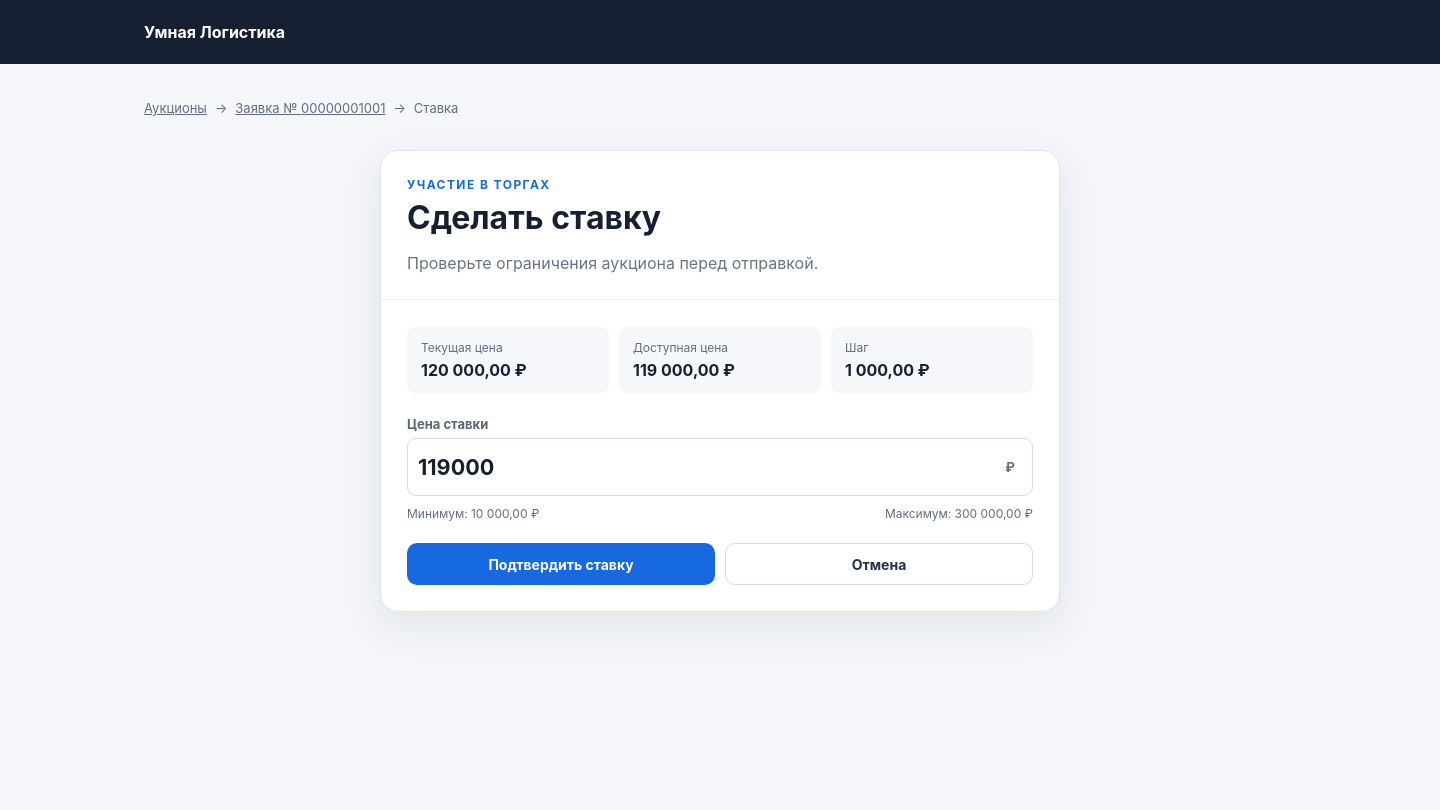
AuctionBetPage › submits a bet and returns to the updated detail page
The width and height of the screenshot is (1440, 810).
Expected: the number field labelled "Цена ставки" holds "119000", x1=407 y1=438 x2=1033 y2=496
Click the button "Подтвердить ставку" at (561, 564), box x1=407 y1=543 x2=715 y2=585
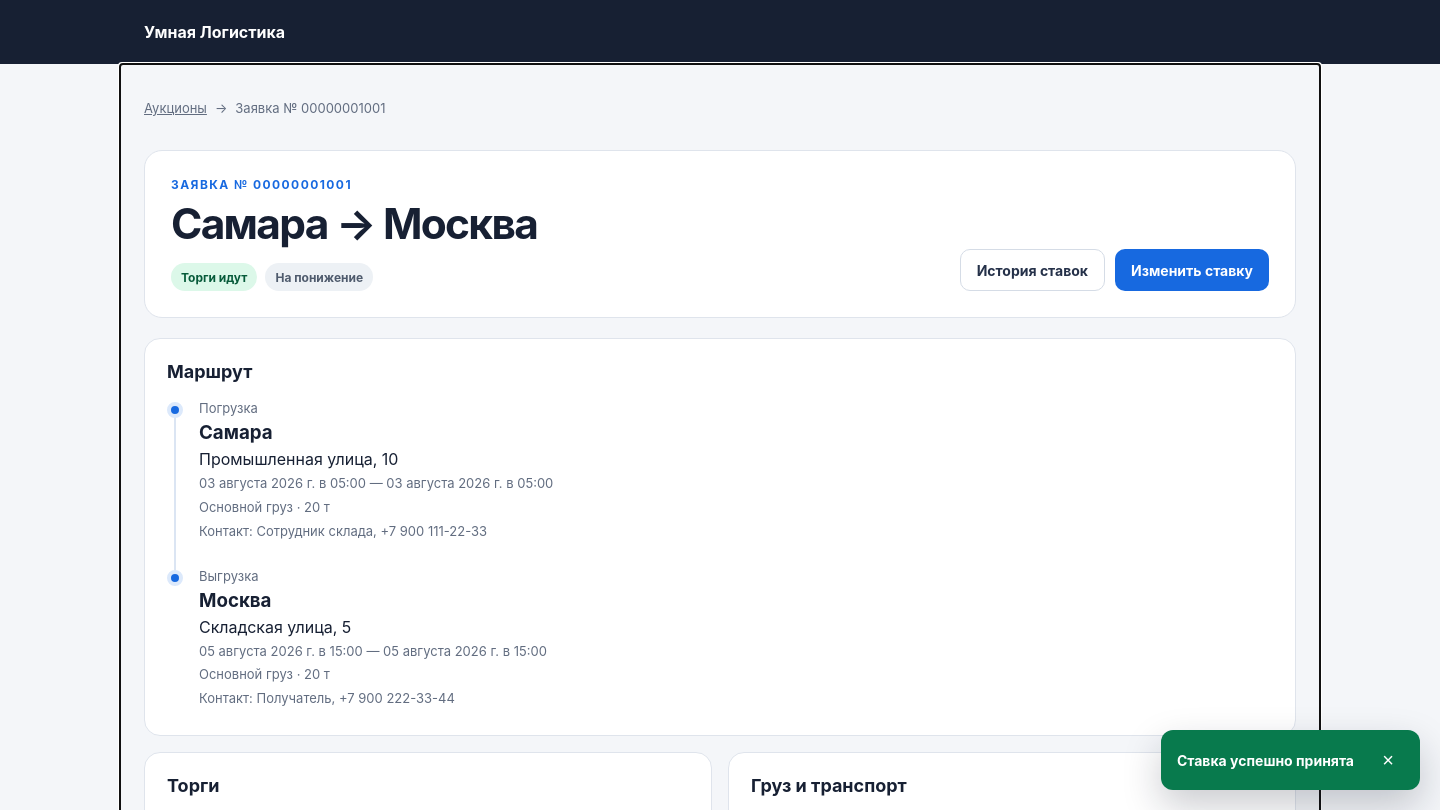
Now the text "Ставка успешно принята" is shown, box x1=1177 y1=752 x2=1354 y2=768
